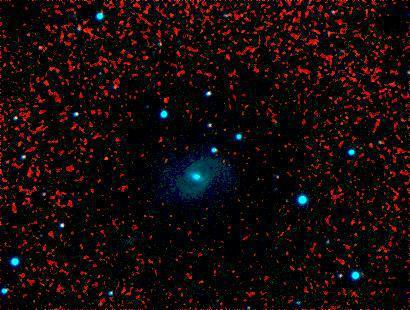star: (88, 140, 118, 170)
